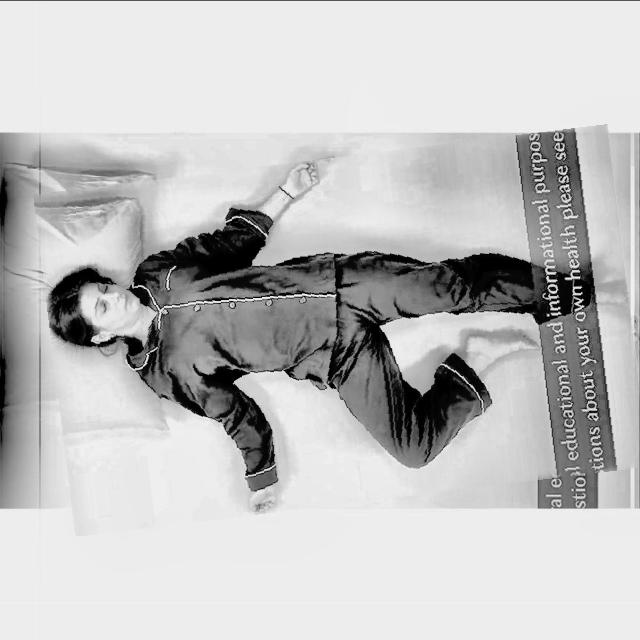Supine: (49, 160, 629, 514)
